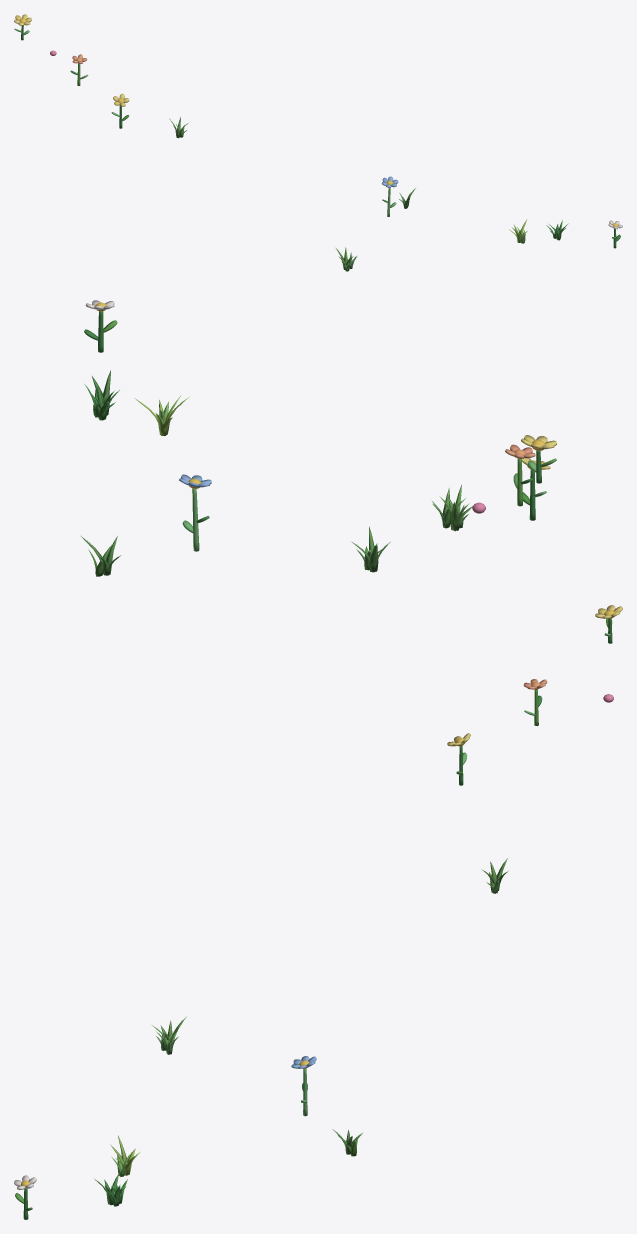
The model's file is W1_FloraRing_8_7.fbx.
The picture shows the model from 3 angles, top to bottom: view 1: azimuth 30°, elevation 25°; view 2: azimuth 150°, elevation 25°; view 3: azimuth 270°, elevation 25°; orthographic projection. The views are drawn at different scales.
Parts seen in each view (by area): view 1: W1_FloraRing_8_7; view 2: W1_FloraRing_8_7; view 3: W1_FloraRing_8_7.
Part boxes in pixels (x1=…): W1_FloraRing_8_7: x1=14, y1=14, x2=622, y2=271; W1_FloraRing_8_7: x1=81, y1=300, x2=556, y2=576; W1_FloraRing_8_7: x1=14, y1=605, x2=622, y2=1219.
Bounding box in the file's own units: 2.78 × 1.28 × 2.22.
